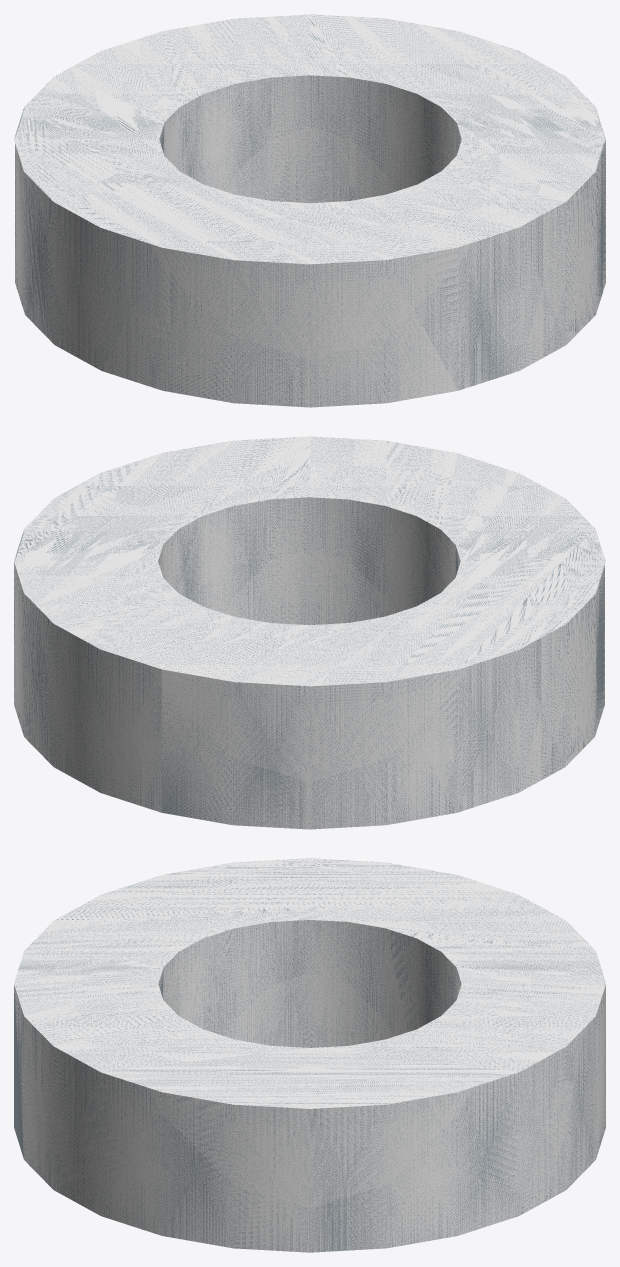
File: arena3.fbx
3 views of the same model, one above another, from view 1: azimuth 30°, elevation 25°; view 2: azimuth 150°, elevation 25°; view 3: azimuth 270°, elevation 25° (orthographic).
Visible parts, largest first — view 1: Model; view 2: Model; view 3: Model.
Boxes of the visible parts, <box> form: Model: <box>14,14,605,407</box>; Model: <box>14,436,605,829</box>; Model: <box>14,858,605,1252</box>.
Size of the model in its own units: 5054 by 1351 by 5044.
